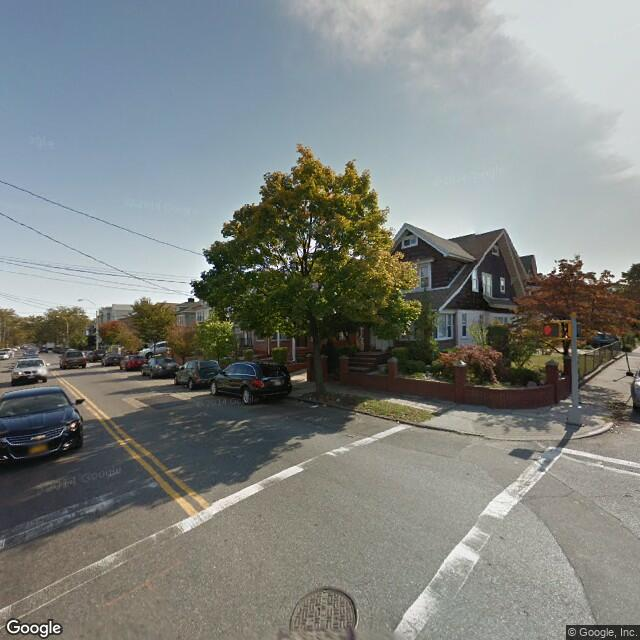litter: (320, 404, 333, 411), (362, 399, 372, 406), (335, 396, 342, 403), (310, 402, 314, 409), (395, 421, 401, 423)
